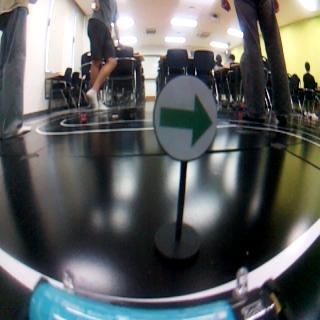right: (154, 74, 213, 160)
